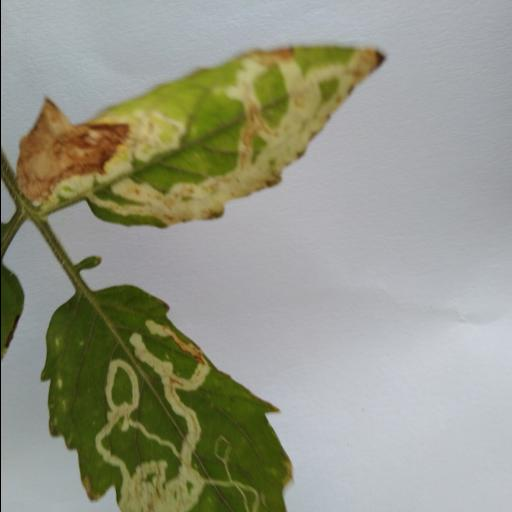Leaf Miner: (12, 43, 390, 231), (40, 284, 292, 512)
